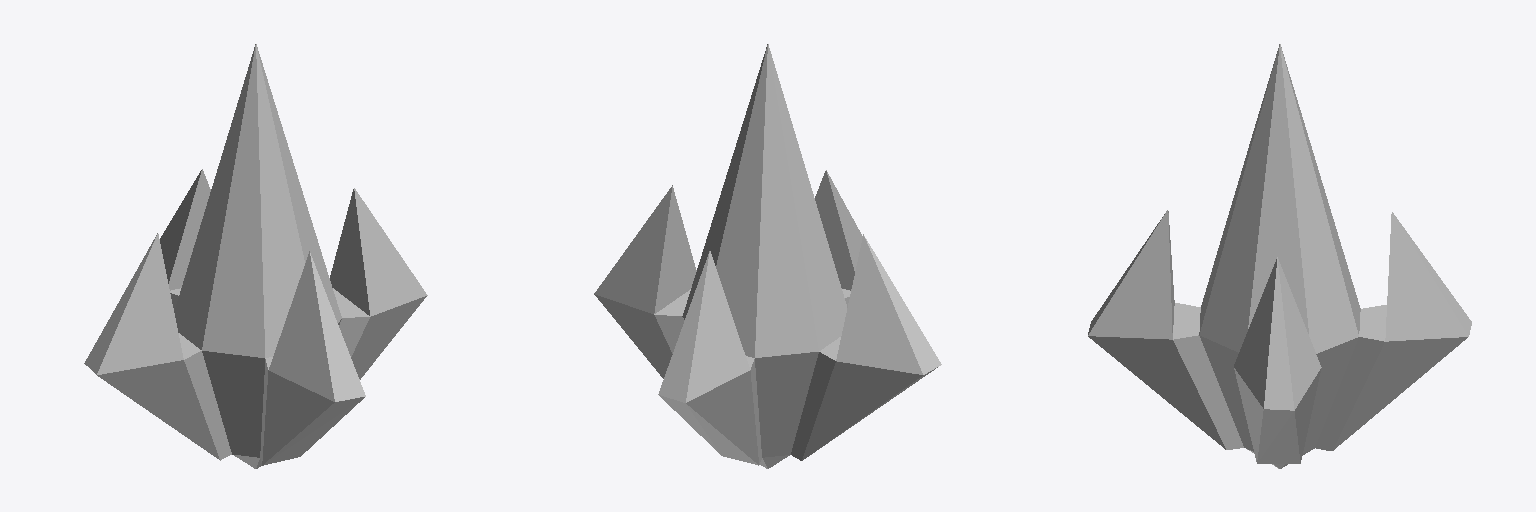
The model's file is Worry_fly.obj.
The picture shows the model from 3 angles: view 1: azimuth 30°, elevation 25°; view 2: azimuth 150°, elevation 25°; view 3: azimuth 270°, elevation 25°; orthographic projection.
Visible parts, largest first — view 1: pCone1; view 2: pCone1; view 3: pCone1.
Boxes of the visible parts, x1,y1,x2,y2 form: pCone1: [84, 44, 427, 468]; pCone1: [594, 44, 941, 468]; pCone1: [1088, 44, 1471, 468].
Bounding box in the file's own units: 2.05 × 2.51 × 2.05.